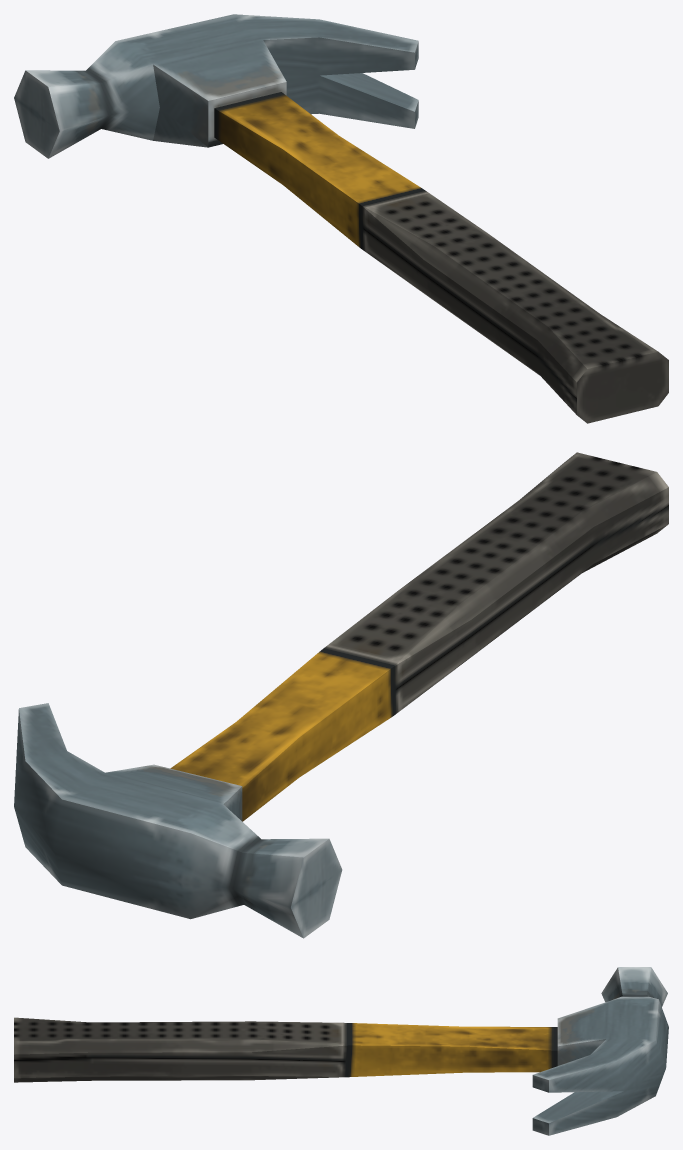
Rendered from ITEM_hammer.fbx.
3 renders of one model, top to bottom at view 1: azimuth 30°, elevation 25°; view 2: azimuth 150°, elevation 25°; view 3: azimuth 270°, elevation 25°, orthographic. The views are drawn at different scales.
Parts seen in each view (by area): view 1: ITEM_hammer; view 2: ITEM_hammer; view 3: ITEM_hammer.
Boxes of the visible parts, bbox=[...] form: ITEM_hammer: bbox=[14, 14, 668, 423]; ITEM_hammer: bbox=[14, 452, 668, 938]; ITEM_hammer: bbox=[14, 967, 668, 1135].
Size of the model in its own units: 13.93 by 3.15 by 33.61.
